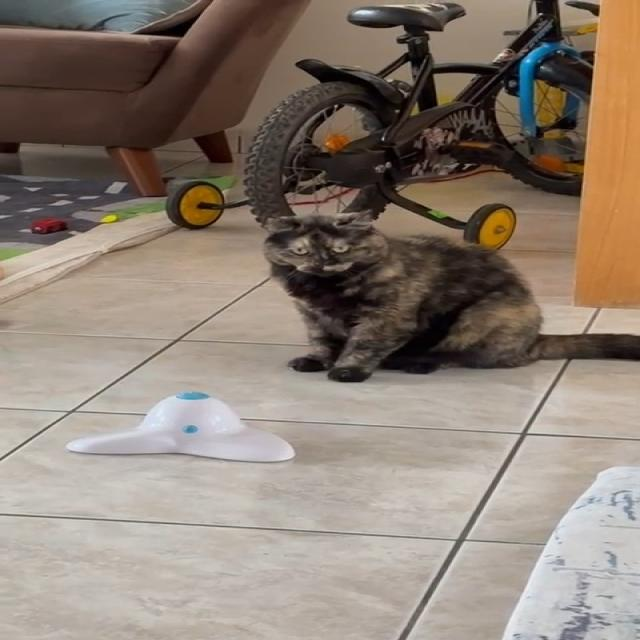authorized: (260, 209, 639, 383)
